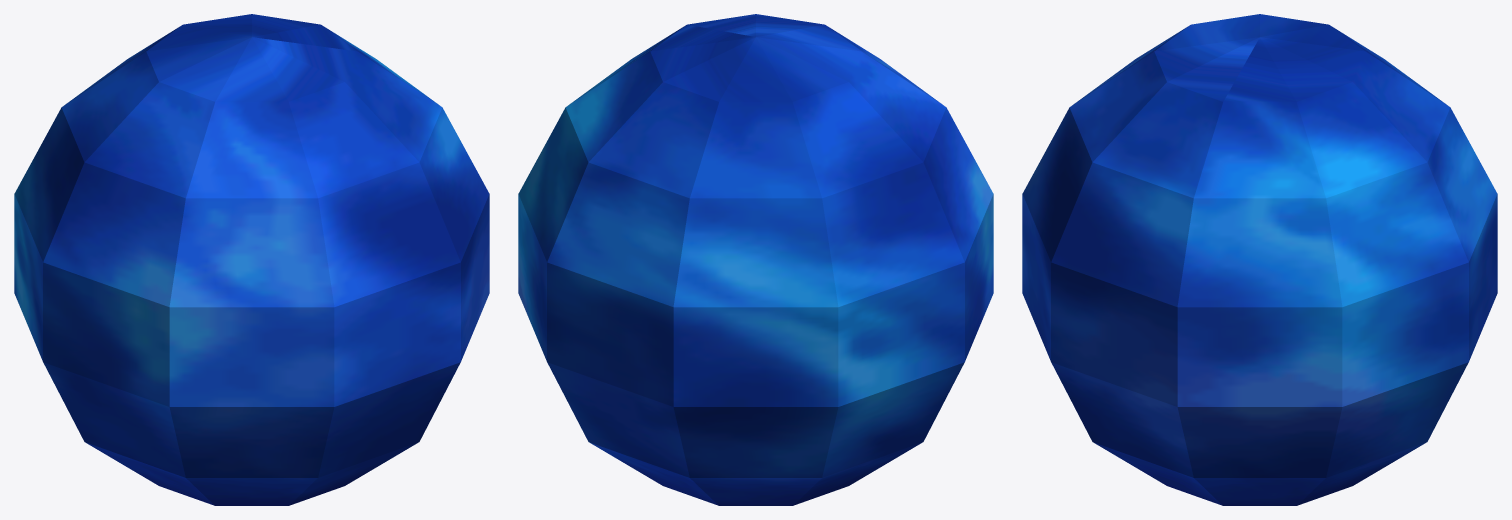
The model's file is BKG.obj.
3 renders of one model, left to right at view 1: azimuth 30°, elevation 25°; view 2: azimuth 150°, elevation 25°; view 3: azimuth 270°, elevation 25°, orthographic.
Visible parts, largest first — view 1: Sphere; view 2: Sphere; view 3: Sphere.
Part boxes in pixels (x1,y1,x2,y2): Sphere: (14,14,489,505); Sphere: (518,14,993,505); Sphere: (1022,14,1497,505).
Bounding box in the file's own units: 93.45 × 98.84 × 94.9.
1 material, 1 textured.
